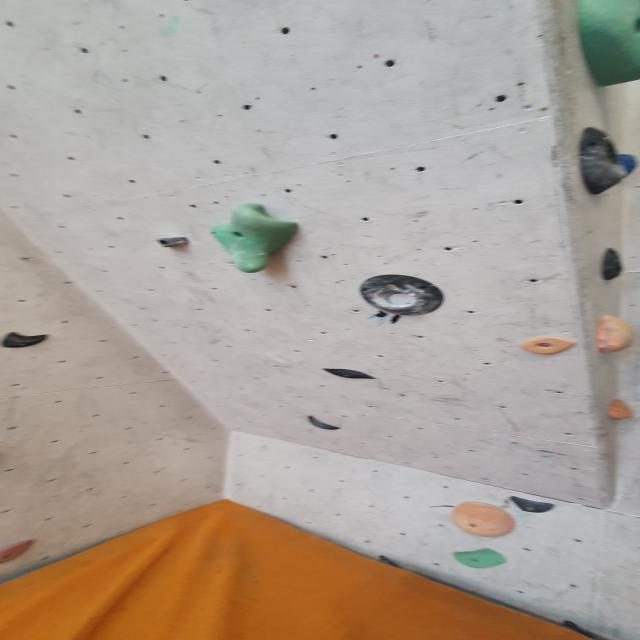Crimp: (516, 337, 578, 358), (0, 537, 38, 565)
Jug: (205, 200, 309, 276)
Pinch: (591, 314, 637, 355), (450, 547, 509, 571), (150, 230, 201, 256)
Pocket: (563, 124, 638, 192), (354, 276, 444, 314), (596, 246, 624, 282)
Sloper: (563, 0, 640, 93), (449, 502, 518, 542)
